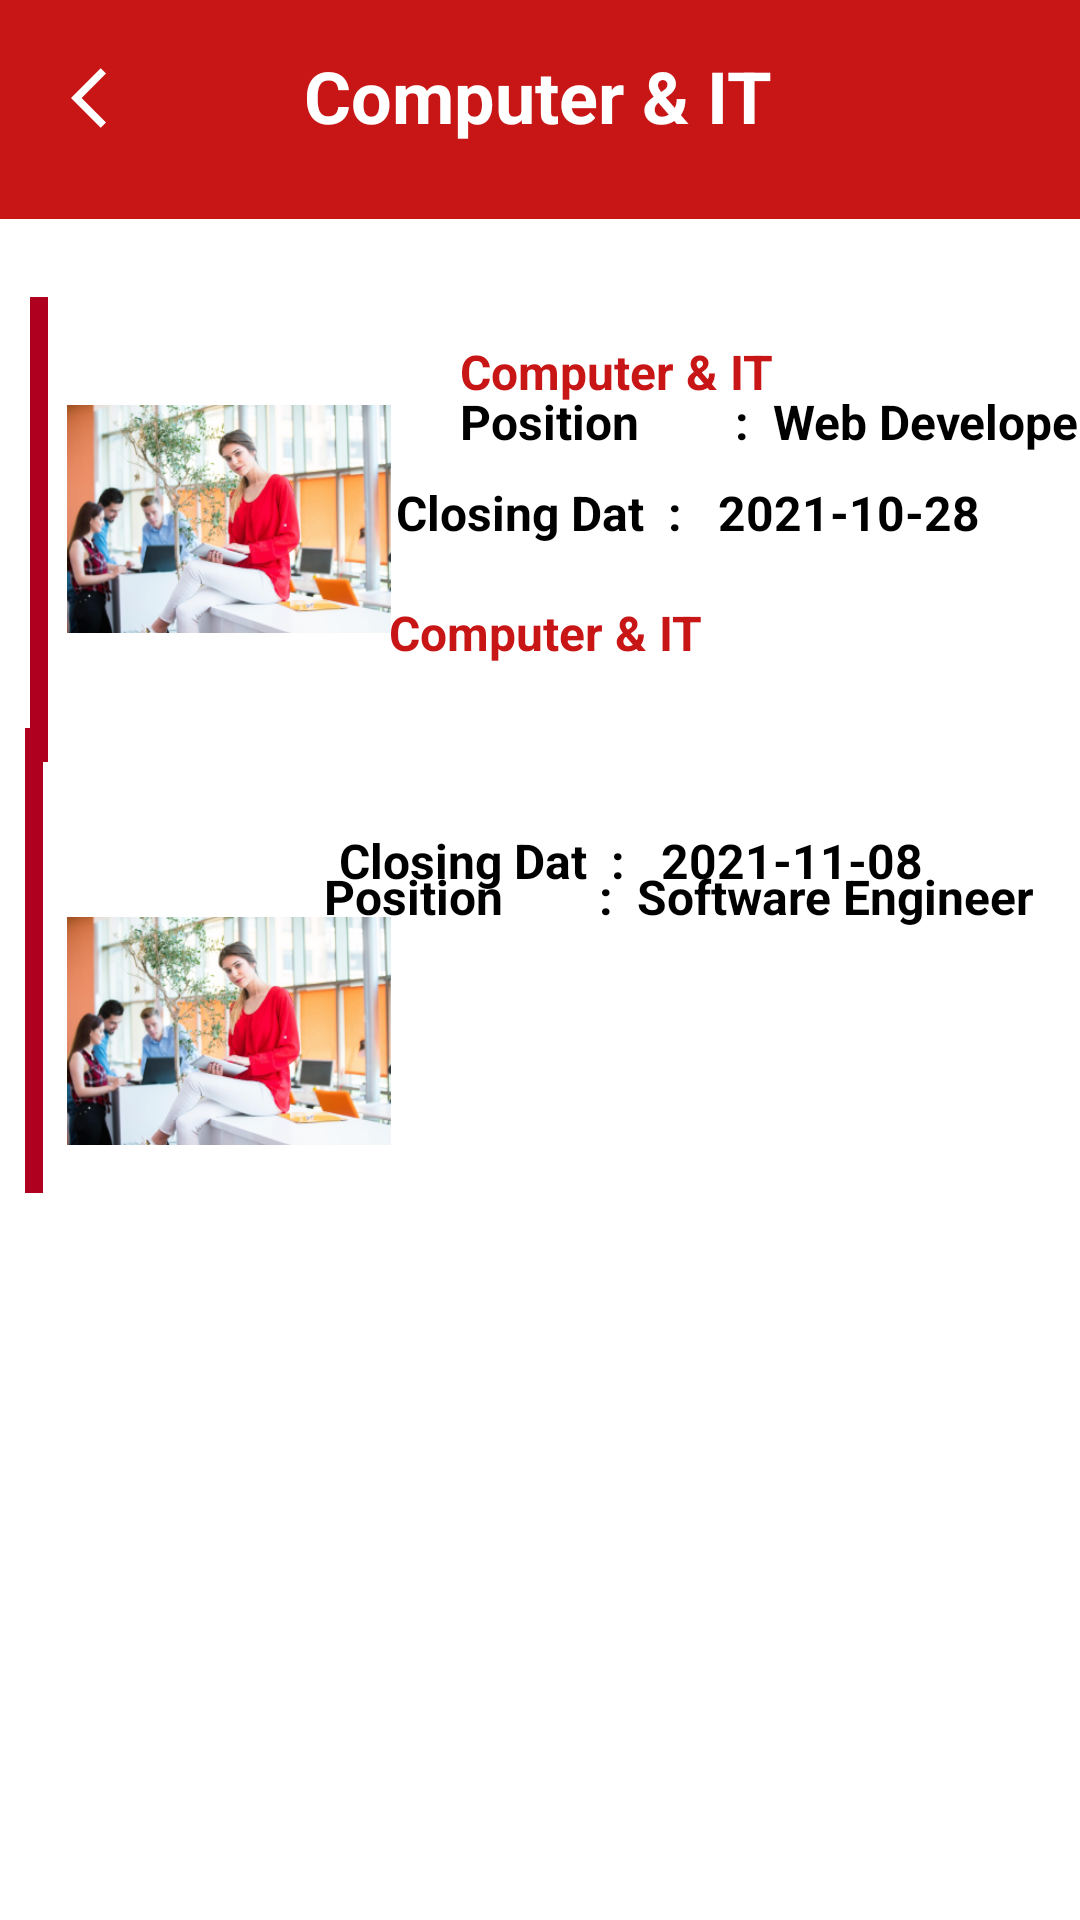

Locate icon controls on the screen. Image size 1080×1920, boxes as (x1, y1, x2, y2).
arrow back: (71, 68, 106, 128)
